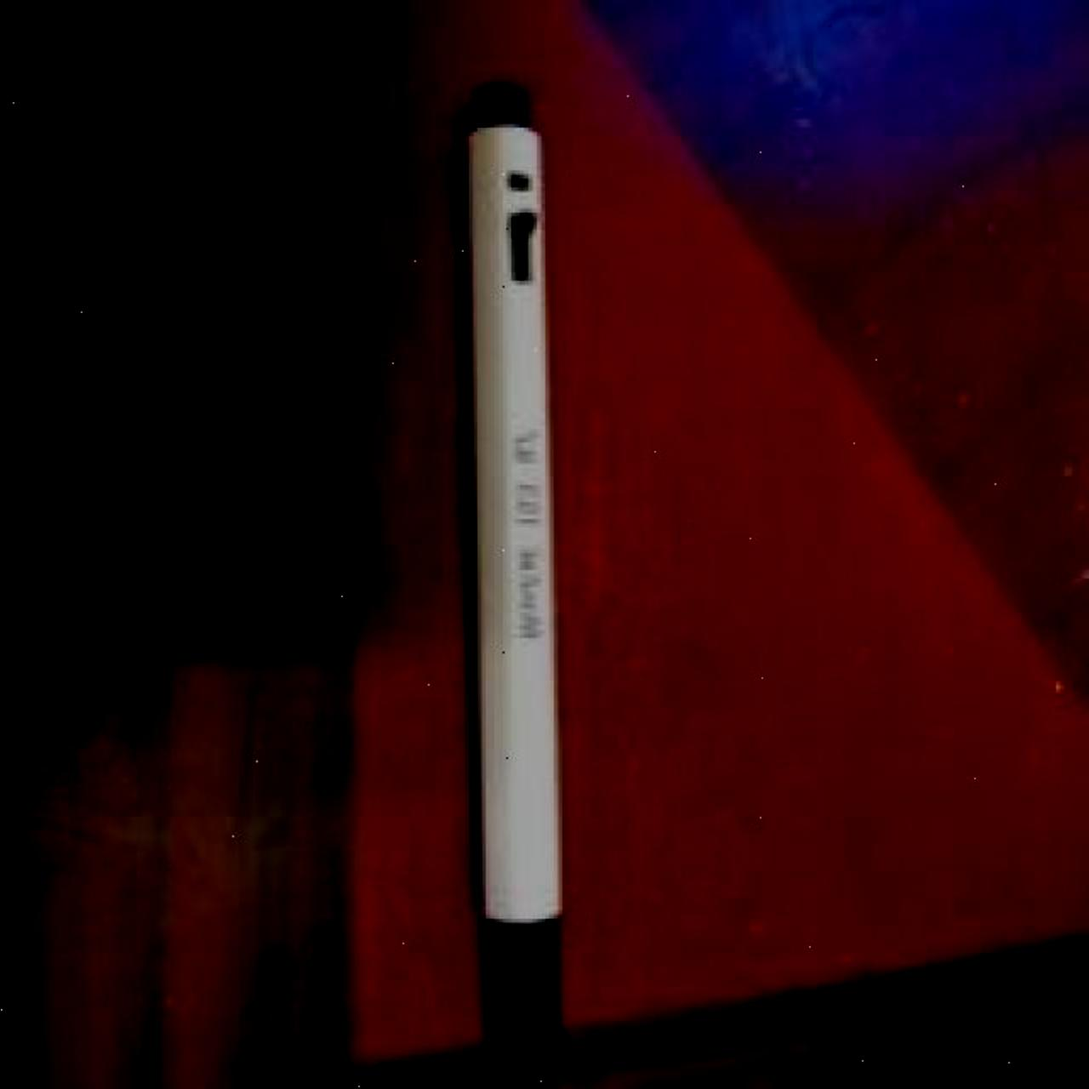pen: (434, 82, 570, 1086)
